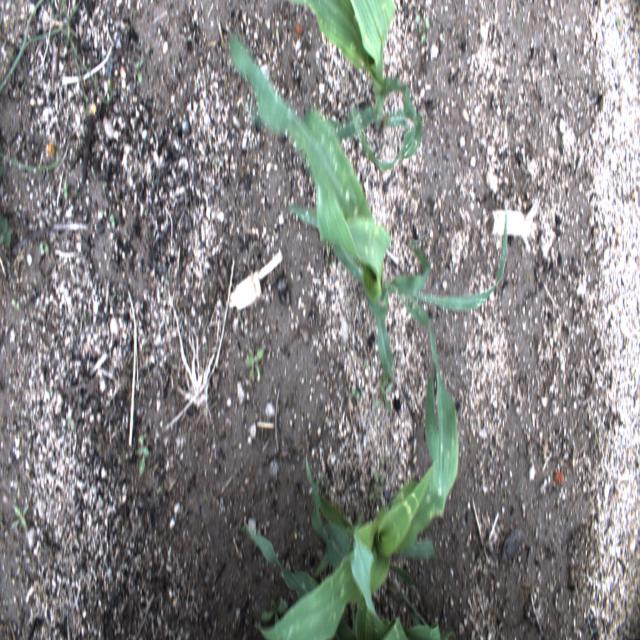crop: (228, 29, 507, 411), (237, 298, 459, 639), (286, 0, 425, 174)
weed: (0, 0, 113, 111), (0, 139, 63, 183), (260, 596, 296, 621), (244, 344, 264, 381), (136, 430, 150, 479), (414, 11, 430, 44), (11, 502, 30, 529), (0, 208, 11, 249), (372, 458, 386, 487), (134, 60, 143, 86), (369, 485, 382, 502), (61, 180, 70, 202), (39, 241, 50, 257), (87, 584, 95, 605), (162, 273, 168, 298), (109, 209, 116, 230), (350, 386, 361, 399), (12, 296, 20, 312), (274, 18, 280, 36), (220, 39, 225, 58), (362, 358, 369, 370), (201, 343, 209, 353), (614, 18, 620, 31), (173, 56, 178, 67)
